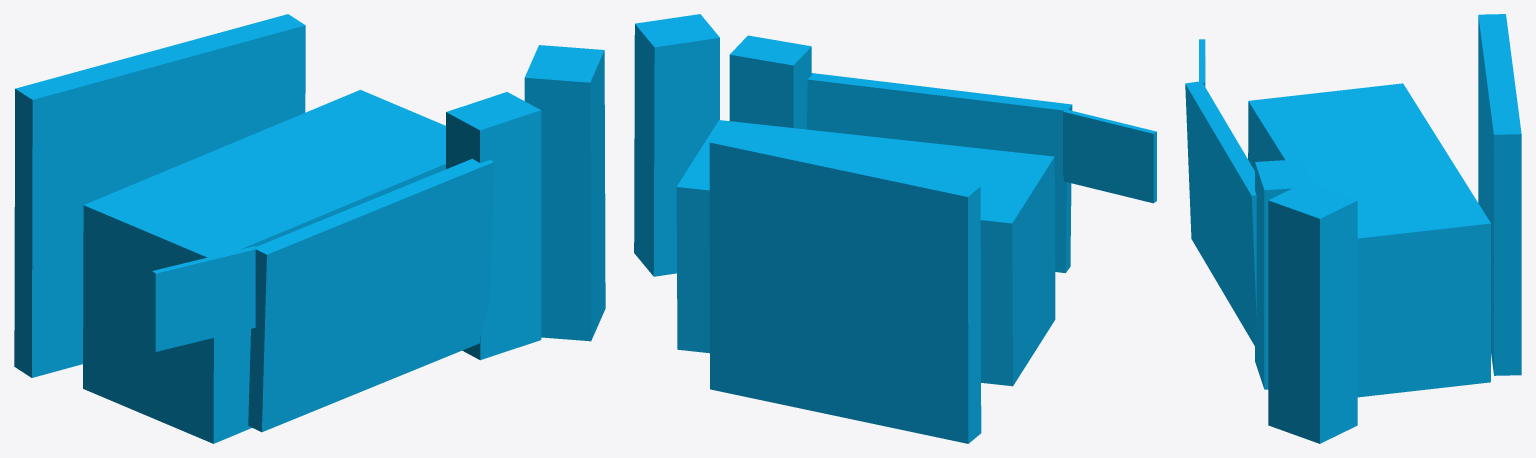
Rendered from BottomGullyWinch_Col.fbx.
3 views of the same model, side by side, from view 1: azimuth 30°, elevation 25°; view 2: azimuth 150°, elevation 25°; view 3: azimuth 270°, elevation 25° (orthographic). The views are drawn at different scales.
Parts seen in each view (by area): view 1: UBX_Winch_001_7, UBX_Wood_barricades_015, UBX_Tool_rack_001__2__1, UBX_Object_4_001_10, UBX_Cylinder_011_4, UBX_Code_of_signals_3; view 2: UBX_Wood_barricades_015, UBX_Winch_001_7, UBX_Object_4_001_10, UBX_Tool_rack_001__2__1, UBX_Code_of_signals_3, UBX_Cylinder_011_4; view 3: UBX_Winch_001_7, UBX_Object_4_001_10, UBX_Wood_barricades_015, UBX_Tool_rack_001__2__1, UBX_Cylinder_011_4.
Part boxes in pixels (bbox=[...]): UBX_Winch_001_7: bbox=[83, 90, 445, 443]; UBX_Wood_barricades_015: bbox=[14, 14, 305, 377]; UBX_Tool_rack_001__2__1: bbox=[248, 158, 494, 432]; UBX_Object_4_001_10: bbox=[524, 45, 605, 341]; UBX_Cylinder_011_4: bbox=[446, 92, 541, 360]; UBX_Code_of_signals_3: bbox=[152, 246, 255, 351]; UBX_Wood_barricades_015: bbox=[709, 132, 981, 443]; UBX_Winch_001_7: bbox=[676, 120, 1055, 386]; UBX_Object_4_001_10: bbox=[634, 14, 719, 276]; UBX_Tool_rack_001__2__1: bbox=[807, 73, 1072, 273]; UBX_Code_of_signals_3: bbox=[1063, 110, 1156, 203]; UBX_Cylinder_011_4: bbox=[729, 35, 811, 129]; UBX_Winch_001_7: bbox=[1248, 83, 1490, 397]; UBX_Object_4_001_10: bbox=[1268, 182, 1357, 443]; UBX_Wood_barricades_015: bbox=[1478, 14, 1521, 375]; UBX_Tool_rack_001__2__1: bbox=[1185, 81, 1256, 345]; UBX_Cylinder_011_4: bbox=[1255, 159, 1310, 389].
Bounding box in the file's own units: 389 × 200 × 252.
